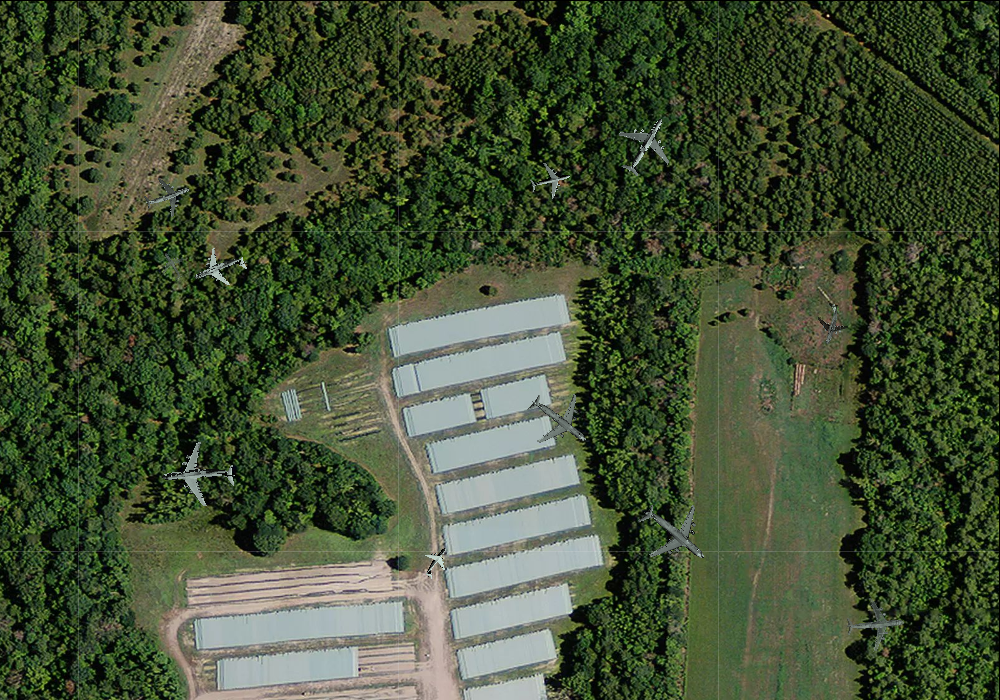plane: (622, 482, 726, 586), (513, 375, 604, 466), (603, 103, 686, 187), (158, 437, 237, 514), (185, 236, 253, 302), (844, 594, 907, 654), (137, 167, 196, 224), (807, 298, 855, 349), (526, 157, 574, 203), (414, 539, 458, 585), (151, 245, 192, 286)
